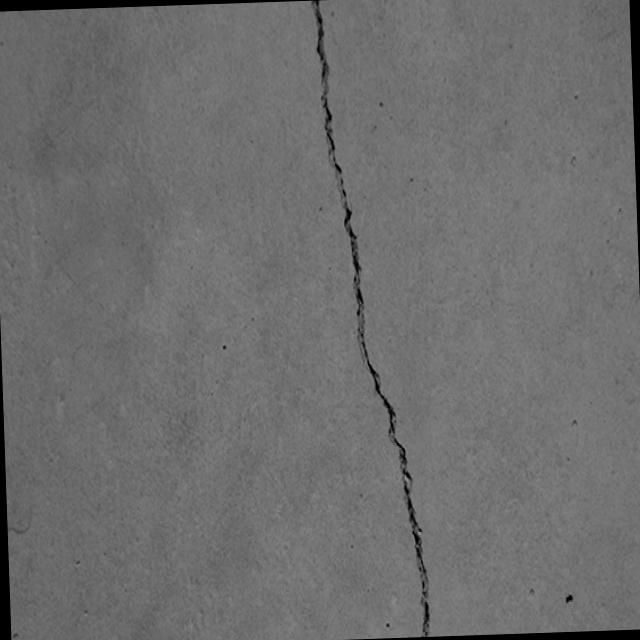crack: (310, 0, 436, 637)
